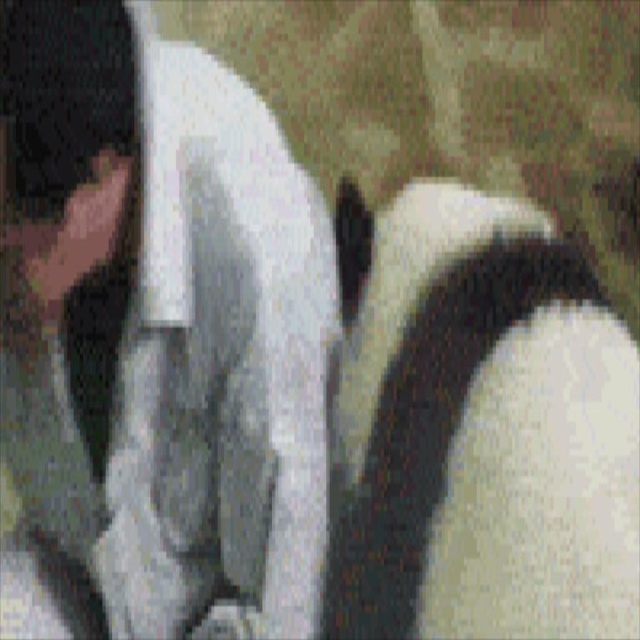Panda: (320, 169, 639, 638)
